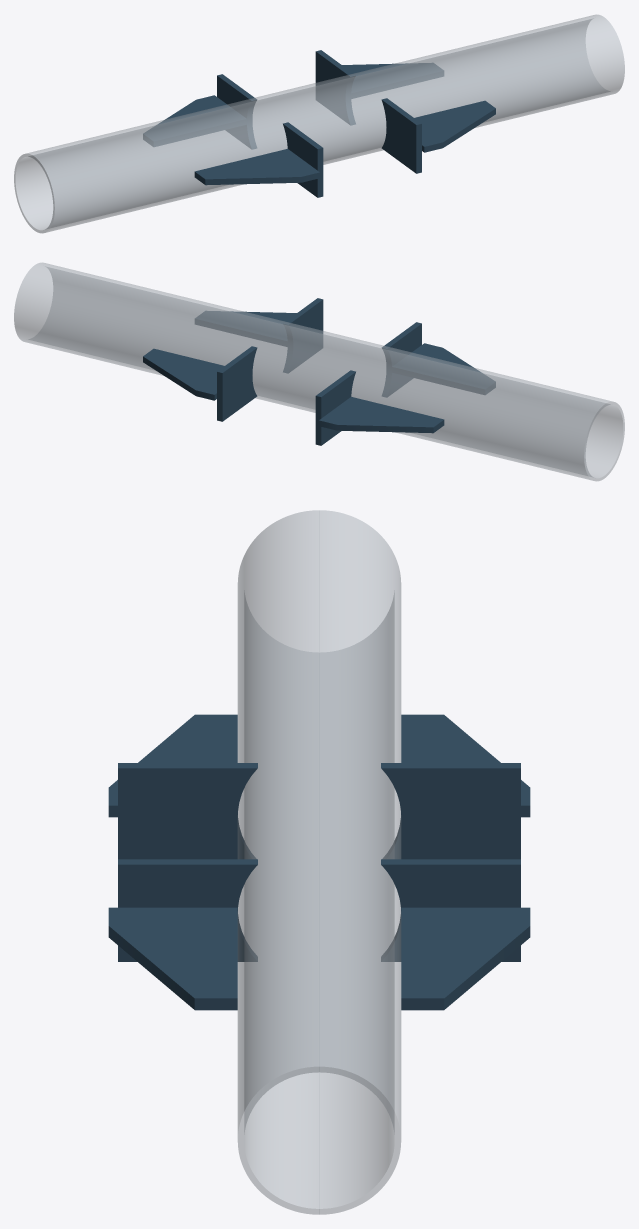
File: TS-660.00.00-04-opora-dn76.glb
3 renders of one model, top to bottom at view 1: azimuth 30°, elevation 25°; view 2: azimuth 150°, elevation 25°; view 3: azimuth 270°, elevation 25°, orthographic. The views are drawn at different scales.
Visible parts, largest first — view 1: truba, upor_4, upor_8, upor_2, upor_6, upor_1, upor_5, upor_7, upor_3; view 2: truba, upor_8, upor_4, upor_6, upor_2, upor_5, upor_1, upor_3, upor_7; view 3: truba, upor_3, upor_7, upor_2, upor_6, upor_1, upor_5, upor_4, upor_8.
Boxes of the visible parts, x1,y1,x2,y2 form: truba: (14, 14, 624, 233); upor_4: (194, 148, 319, 185); upor_8: (143, 95, 246, 146); upor_2: (414, 100, 495, 152); upor_6: (342, 63, 443, 98); upor_1: (381, 98, 421, 173); upor_5: (315, 50, 355, 124); upor_7: (217, 74, 256, 149); upor_3: (283, 122, 323, 197); truba: (14, 262, 624, 481); upor_8: (319, 396, 444, 433); upor_4: (392, 343, 495, 394); upor_6: (143, 348, 224, 400); upor_2: (195, 311, 296, 346); upor_5: (217, 346, 257, 421); upor_1: (283, 298, 323, 372); upor_3: (382, 322, 421, 397); upor_7: (315, 370, 355, 445); truba: (237, 510, 401, 1214); upor_3: (118, 763, 257, 859); upor_7: (381, 763, 520, 859); upor_2: (108, 907, 237, 1010); upor_6: (401, 907, 530, 1010); upor_1: (118, 859, 257, 961); upor_5: (381, 859, 520, 961); upor_4: (108, 714, 237, 817); upor_8: (401, 714, 530, 817).
Size of the model in its own units: 612 by 76 by 196.
